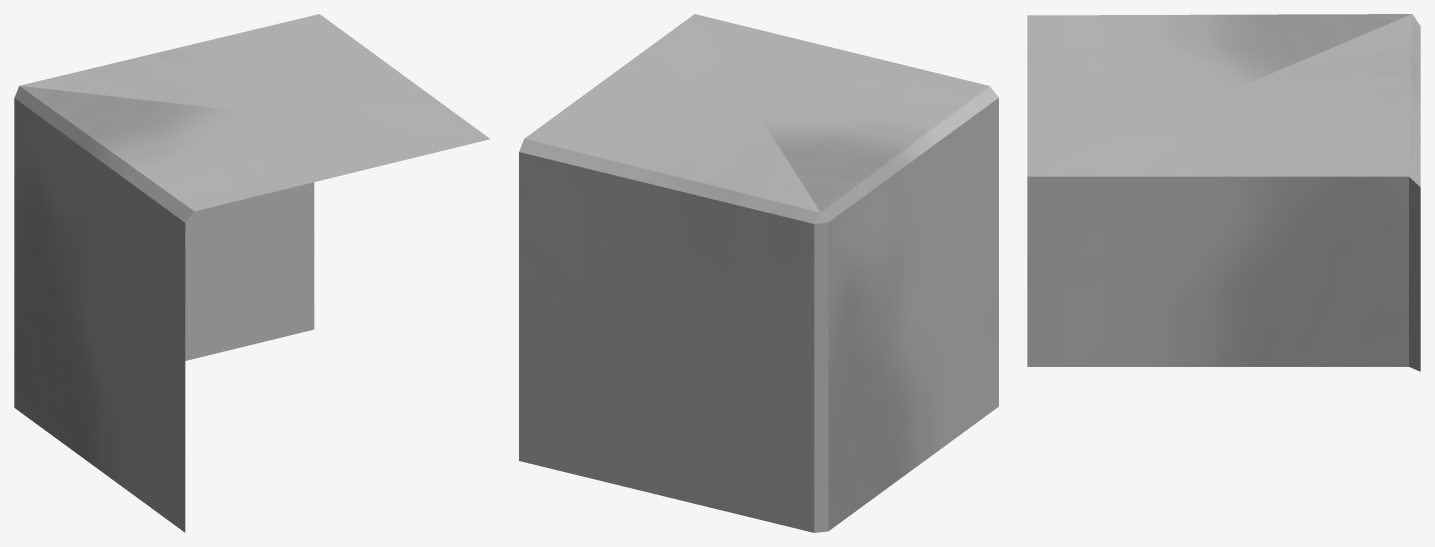
File: Сorner border.fbx
The picture shows the model from 3 angles, left to right: view 1: azimuth 30°, elevation 25°; view 2: azimuth 150°, elevation 25°; view 3: azimuth 270°, elevation 25°; orthographic projection. The views are drawn at different scales.
Visible parts, largest first — view 1: Сorner border; view 2: Сorner border; view 3: Сorner border.
Part boxes in pixels (left/top/right/bottom): Сorner border: left=14, top=14, right=490, bottom=532; Сorner border: left=519, top=14, right=998, bottom=532; Сorner border: left=1027, top=14, right=1420, bottom=371.
Size of the model in its own units: 16.92 by 16.92 by 16.92.
